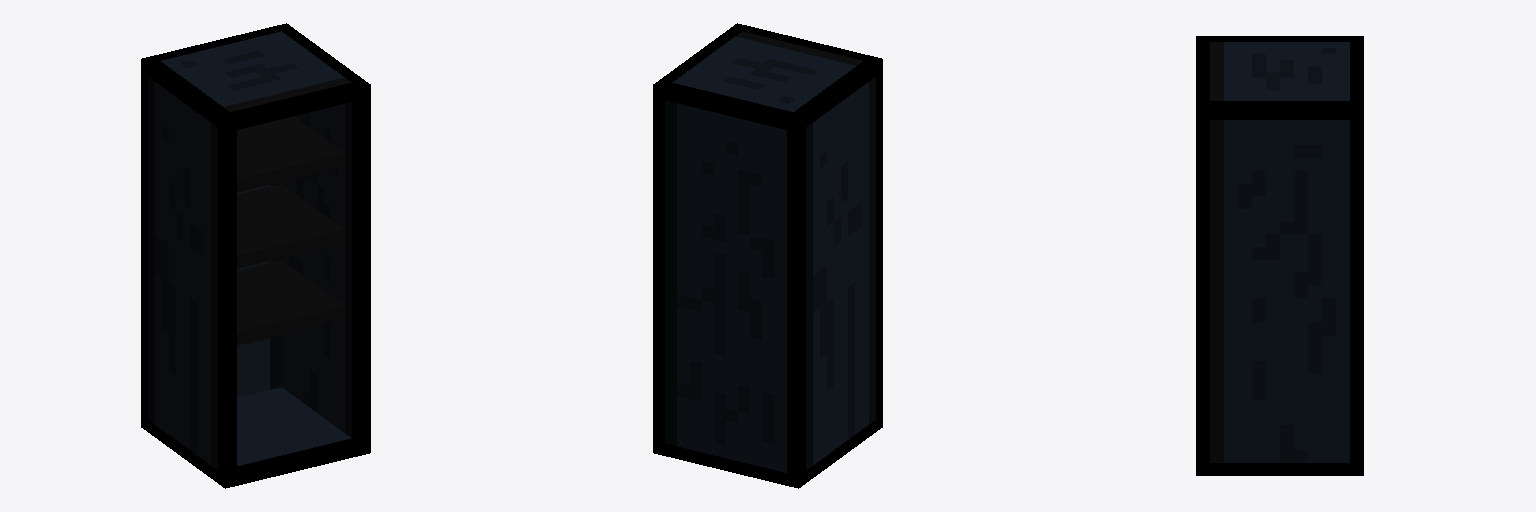
The picture shows the model from 3 angles: view 1: azimuth 30°, elevation 25°; view 2: azimuth 150°, elevation 25°; view 3: azimuth 270°, elevation 25°; orthographic projection.
Parts seen in each view (by area): view 1: object 1; view 2: object 1; view 3: object 1.
Part boxes in pixels (left/top/right/bottom): object 1: left=141, top=23, right=370, bottom=488; object 1: left=653, top=23, right=882, bottom=488; object 1: left=1196, top=36, right=1363, bottom=475.
Bounding box in the file's own units: 1.2 × 2.9 × 1.2.
1 materials, 1 textured.